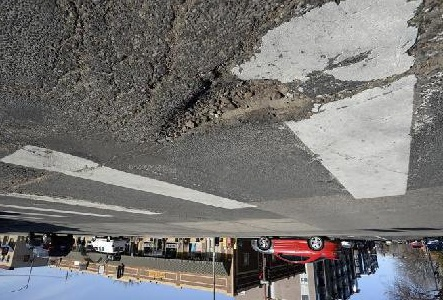pothole: (151, 67, 326, 148)
